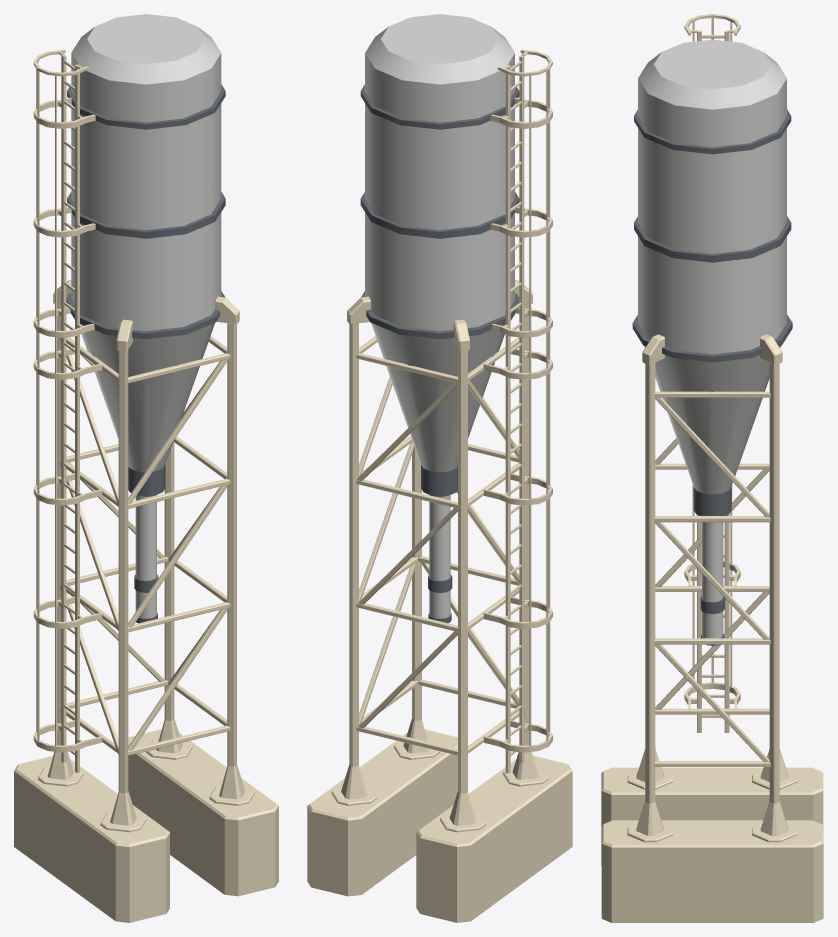
File: farmstractures_27.gltf
3 renders of one model, left to right at view 1: azimuth 30°, elevation 25°; view 2: azimuth 150°, elevation 25°; view 3: azimuth 270°, elevation 25°, orthographic.
Parts seen in each view (by area): view 1: body, blades; view 2: body, blades; view 3: body, blades.
Part boxes in pixels (bbox=[...]): body: bbox=[14, 14, 278, 922]; blades: bbox=[36, 55, 79, 772]; body: bbox=[307, 14, 572, 922]; blades: bbox=[505, 56, 550, 773]; body: bbox=[601, 14, 823, 922]; blades: bbox=[692, 18, 732, 732].
Bounding box in the file's own units: 2.93 × 12.13 × 2.98.
Materials: 1 (1 with a texture image).
